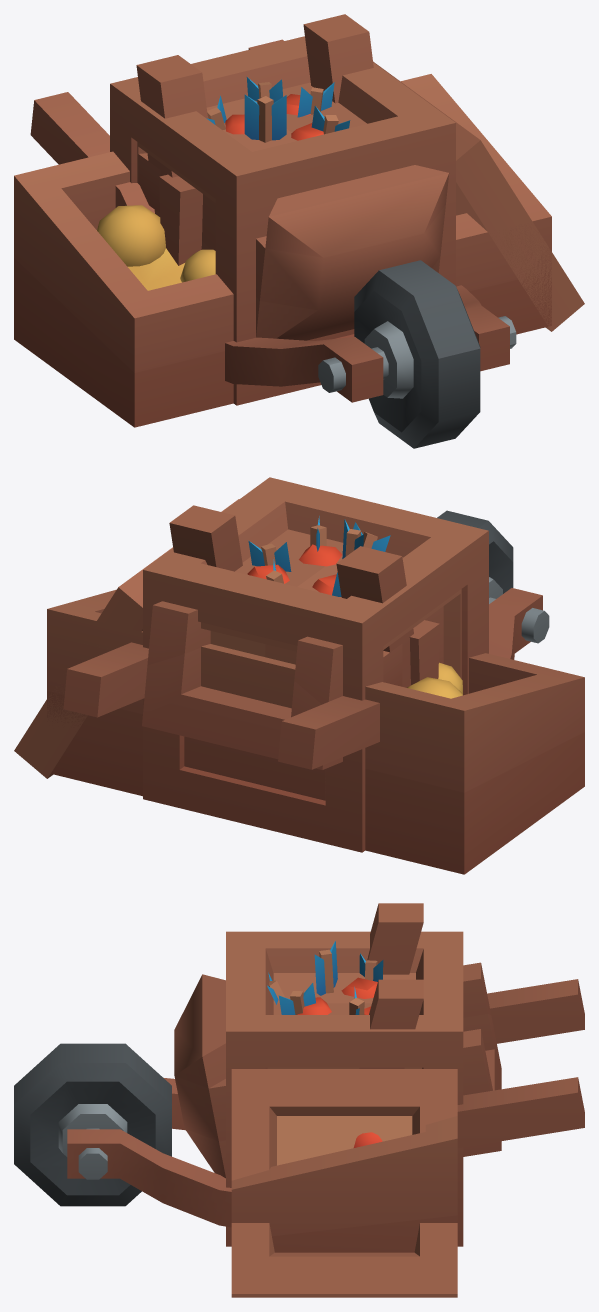
File: kaykit_props.glb
3 renders of one model, top to bottom at view 1: azimuth 30°, elevation 25°; view 2: azimuth 150°, elevation 25°; view 3: azimuth 270°, elevation 25°, orthographic. The views are drawn at different scales.
Visible parts, largest first — view 1: wheelbarrow_mesh, crate_long_A_mesh, crate_A_big_mesh, crate_open_mesh, weaponrack_mesh, bucket_arrows_mesh; view 2: crate_long_A_mesh, crate_A_big_mesh, wheelbarrow_mesh, crate_open_mesh, weaponrack_mesh, bucket_arrows_mesh; view 3: wheelbarrow_mesh, crate_open_mesh, crate_A_big_mesh, crate_long_A_mesh, weaponrack_mesh, bucket_arrows_mesh.
Part boxes in pixels (x1,y1,x2,y2): wheelbarrow_mesh: [30, 39, 516, 448]; crate_long_A_mesh: [14, 74, 551, 427]; crate_A_big_mesh: [110, 36, 455, 405]; crate_open_mesh: [137, 61, 584, 331]; weaponrack_mesh: [136, 14, 373, 216]; bucket_arrows_mesh: [206, 77, 350, 142]; crate_long_A_mesh: [47, 589, 584, 874]; crate_A_big_mesh: [143, 477, 488, 852]; wheelbarrow_mesh: [63, 510, 549, 769]; crate_open_mesh: [14, 499, 461, 799]; weaponrack_mesh: [169, 505, 413, 687]; bucket_arrows_mesh: [248, 516, 390, 596]; wheelbarrow_mesh: [14, 962, 584, 1227]; crate_open_mesh: [231, 977, 457, 1297]; crate_A_big_mesh: [226, 931, 463, 1246]; crate_long_A_mesh: [231, 1116, 457, 1252]; weaponrack_mesh: [359, 903, 423, 1068]; bucket_arrows_mesh: [267, 941, 383, 1014].
Bounding box in the file's own units: 0.4316 × 0.2456 × 0.5057.
1 material, 1 textured.
